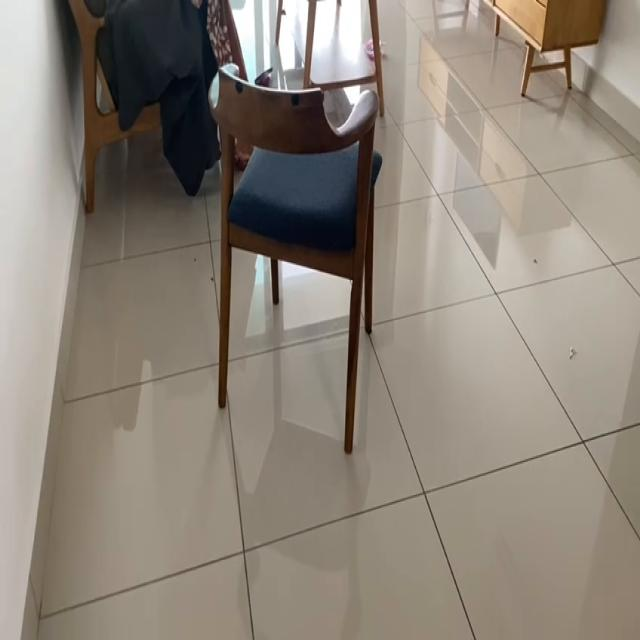Chair: (208, 52, 376, 474)
